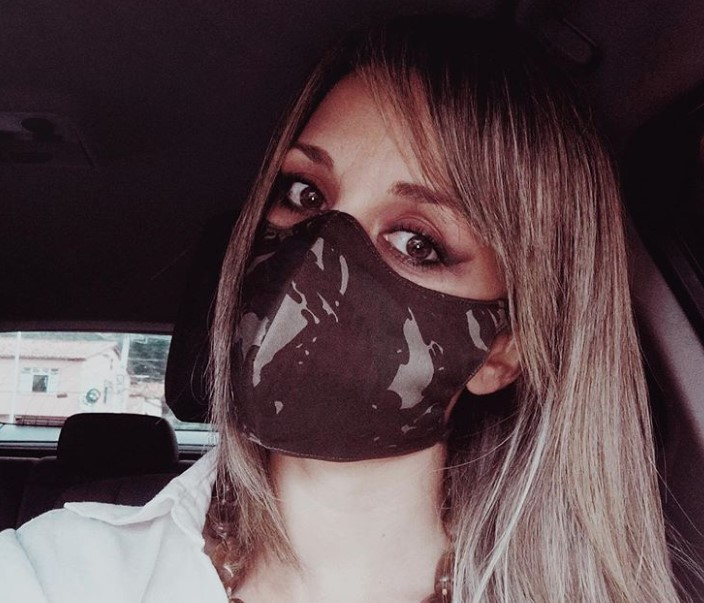face_with_mask: (218, 40, 557, 463)
